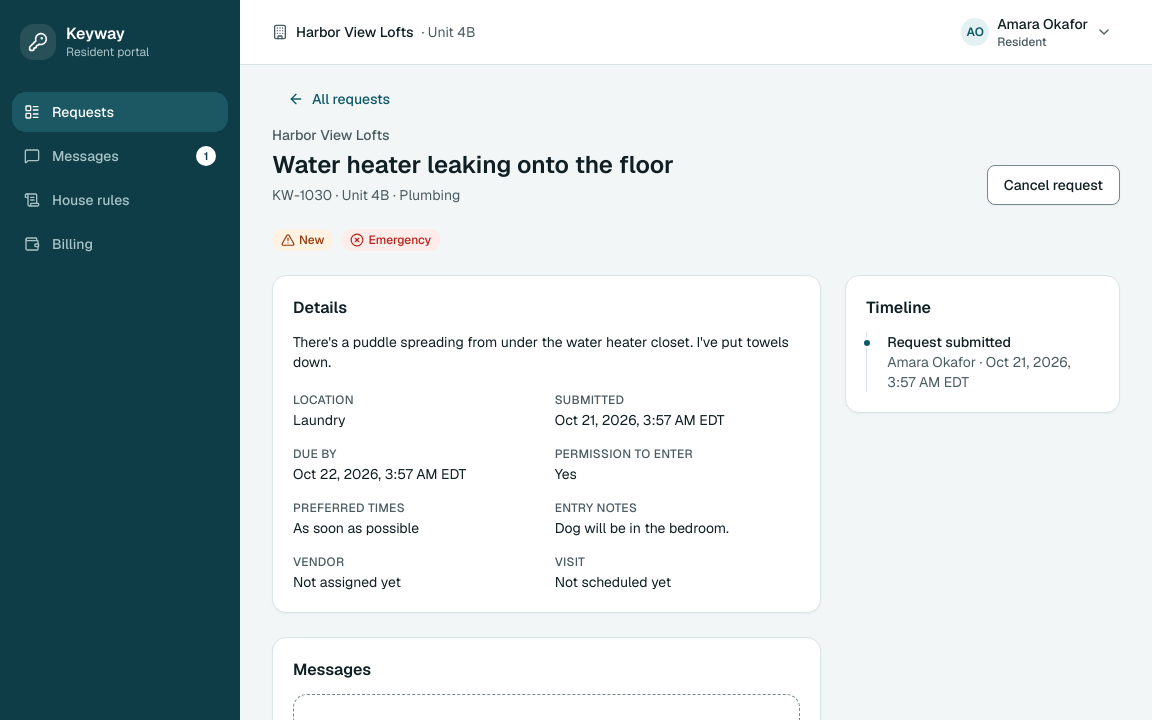
resident submits a request › lets the resident cancel a new request
Expected: the heading "Water heater leaking onto the floor" is shown, [272,149,674,181]
Click the button "Cancel request" at (1054, 185), box [987,165,1120,205]
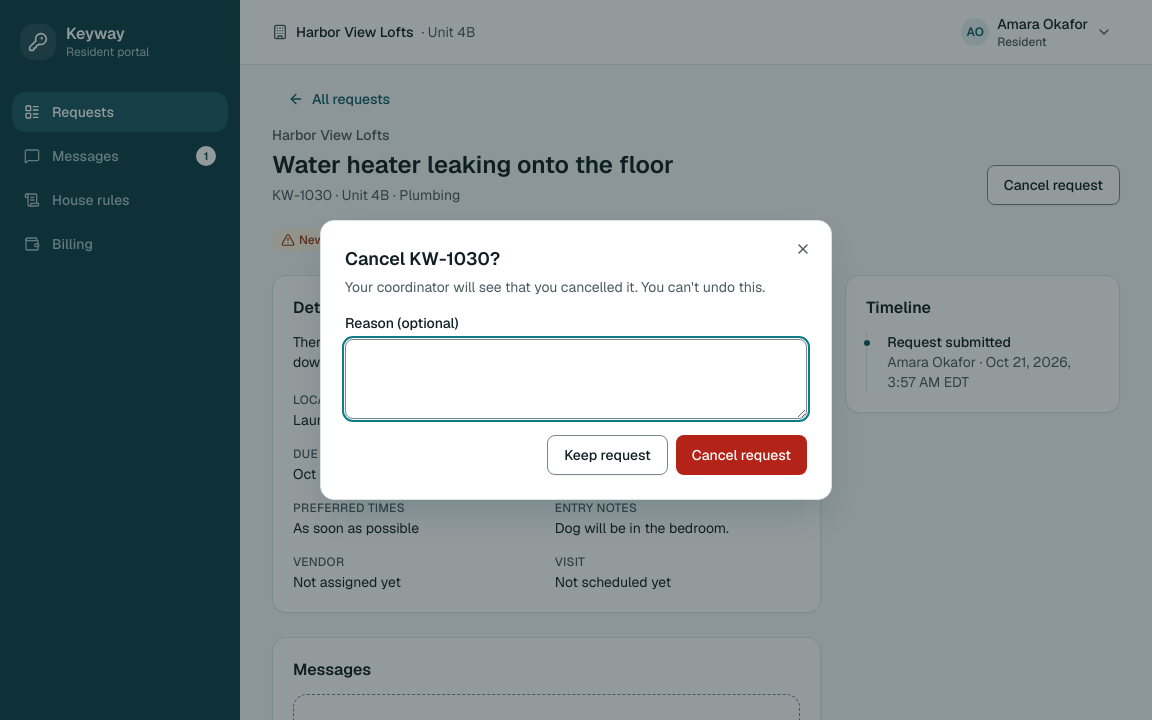
Result: the dialog "Cancel KW-1030?" is shown at [320,220,832,500]
Type "The leak stopped after I tightened the valve." into the text box labelled "Reason (optional)" at (576, 379), box [345,339,807,419]
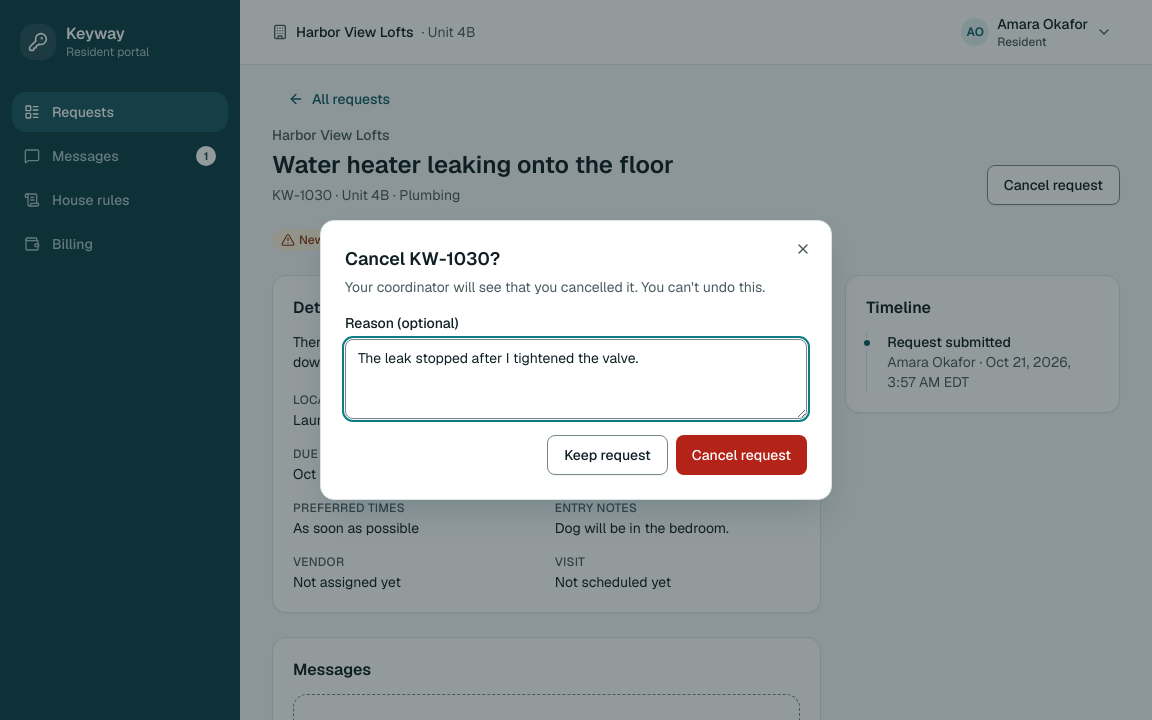
Click the button "Cancel request" at (742, 455), box [676,435,807,475]
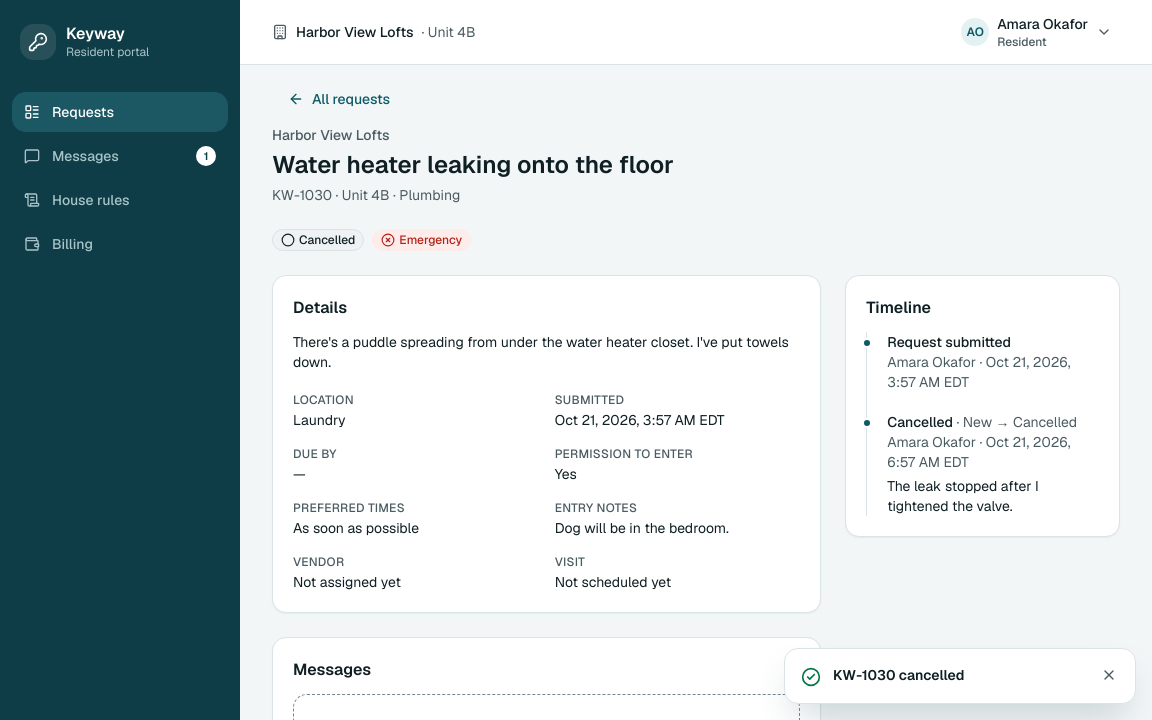
Result: the text "KW-1030 cancelled" is shown at [833,666,964,684]
Result: the list item that starts with "Cancelled" shows "New → Cancelled" at [887,412,1099,516]
